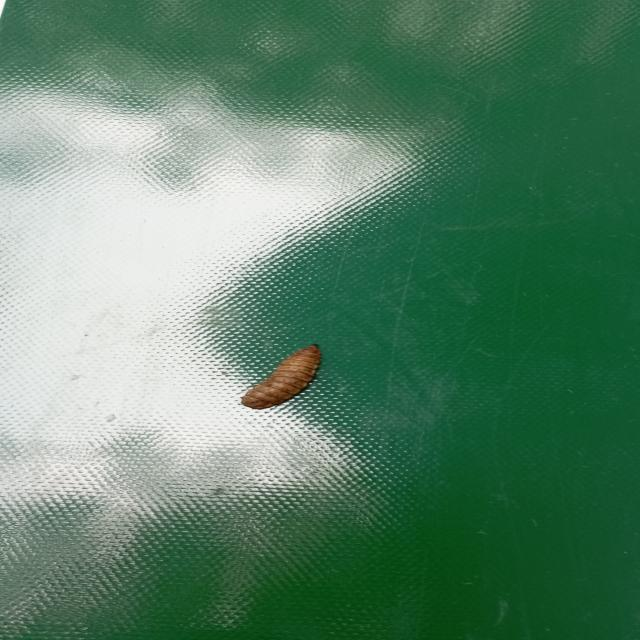Maggot: (241, 346, 322, 412)
